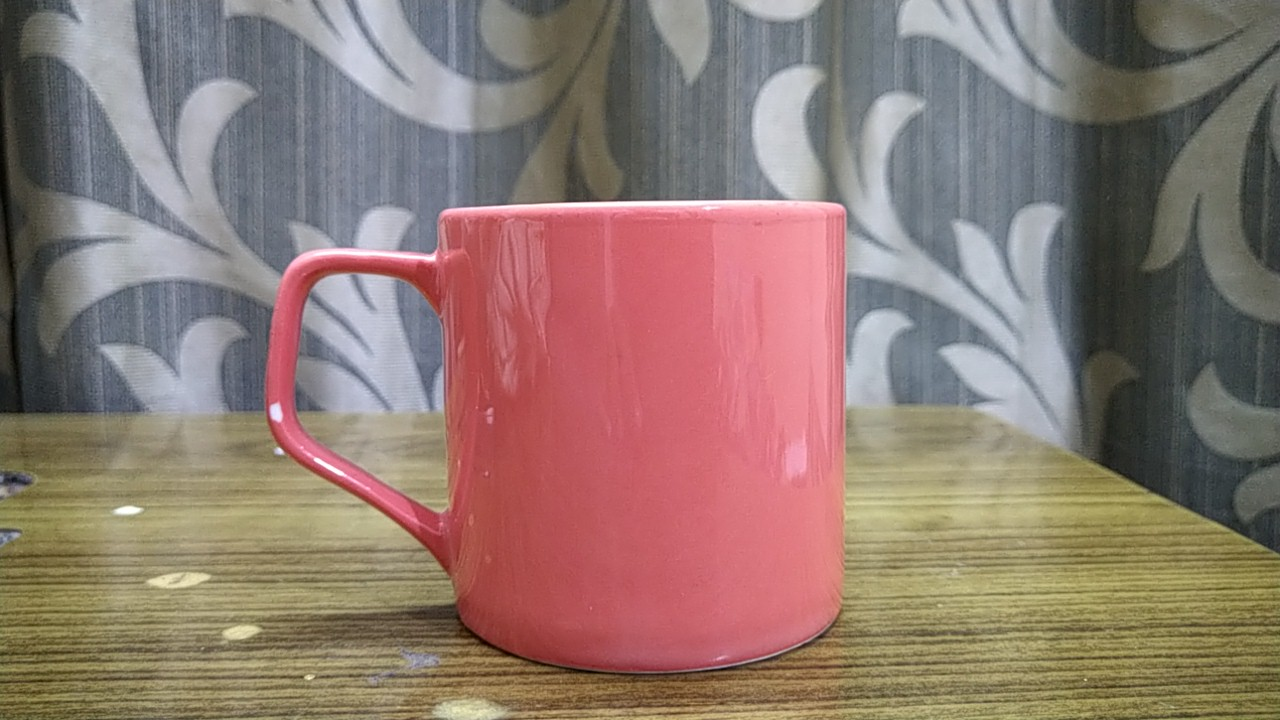cup: (256, 191, 859, 679)
